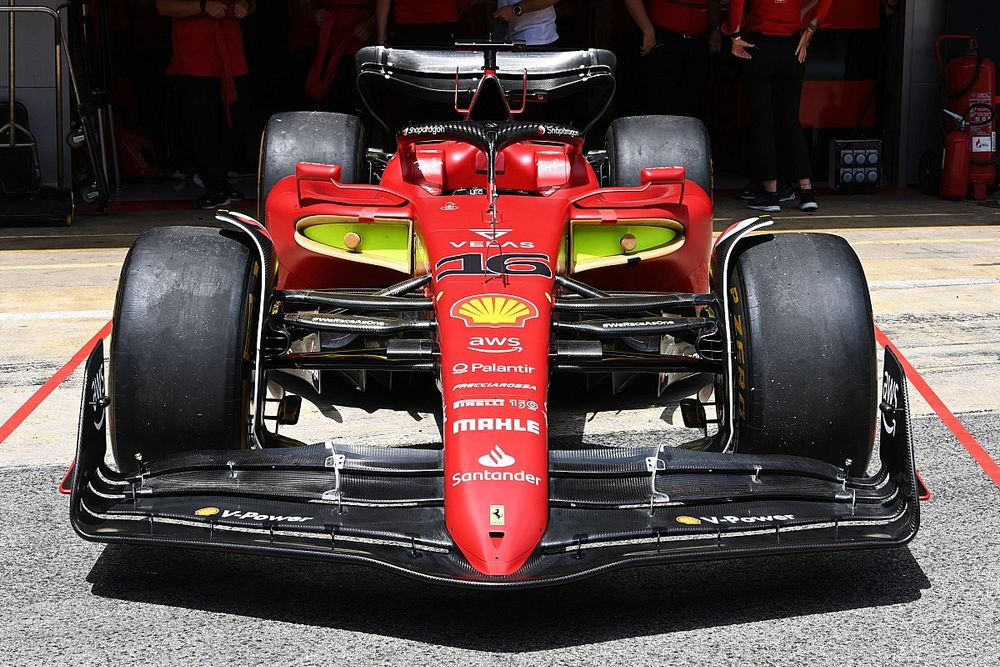Formule 1: (82, 44, 919, 589)
